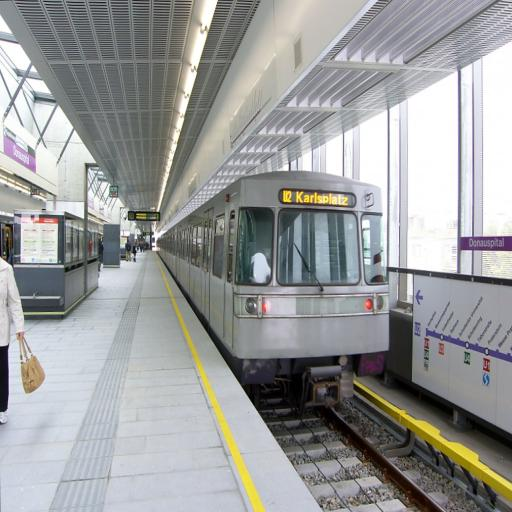Silberpfeil: (156, 169, 390, 374)
